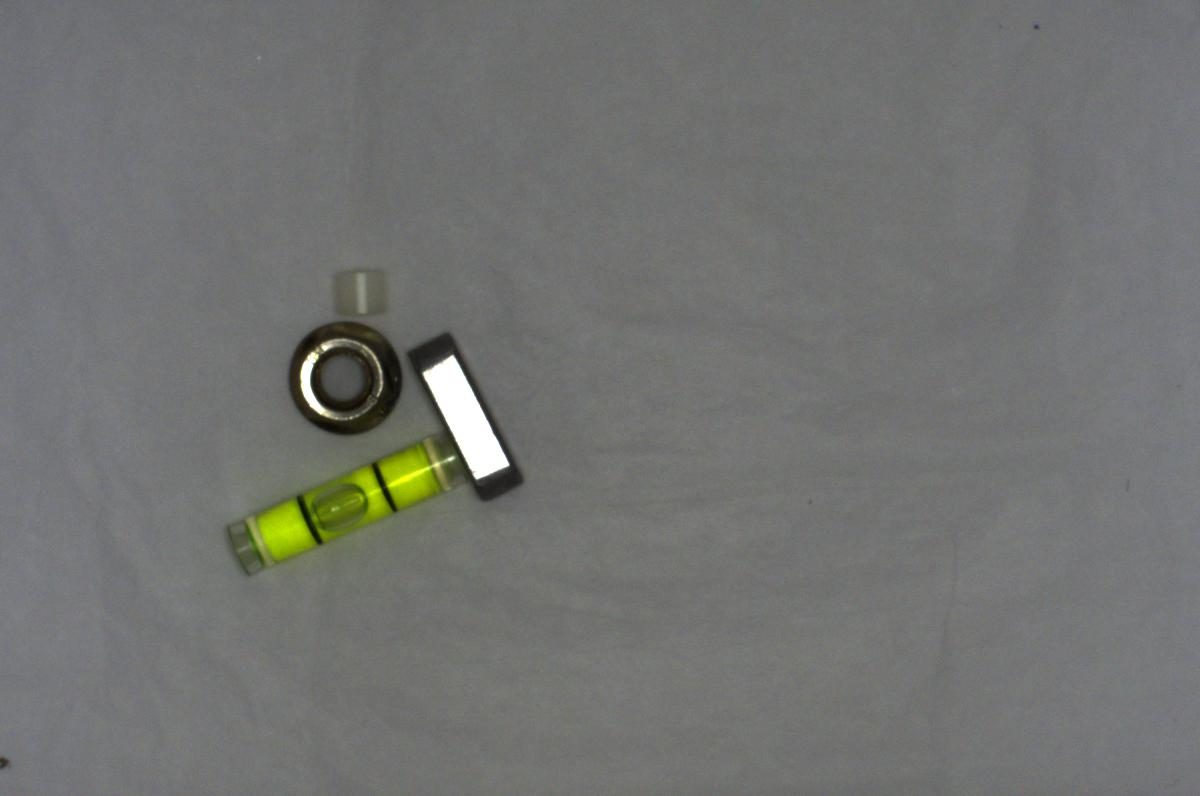Flange nut: (271, 316, 410, 438)
Horizontal bubble: (226, 429, 467, 576)
Keybar: (405, 326, 521, 502)
Plastic cushion pillar: (319, 252, 395, 323)
